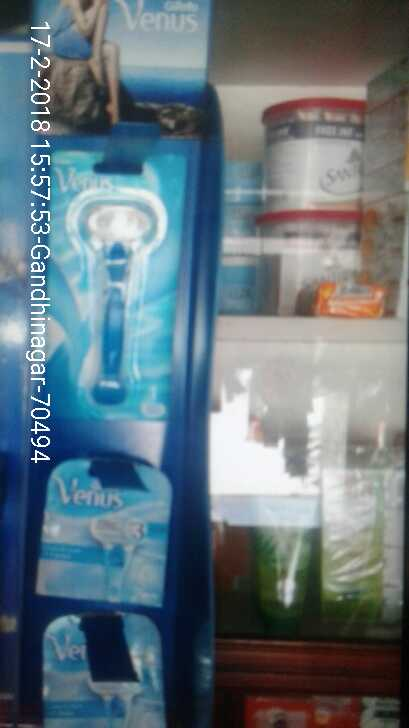venus: (56, 156, 175, 413), (41, 452, 174, 613)
